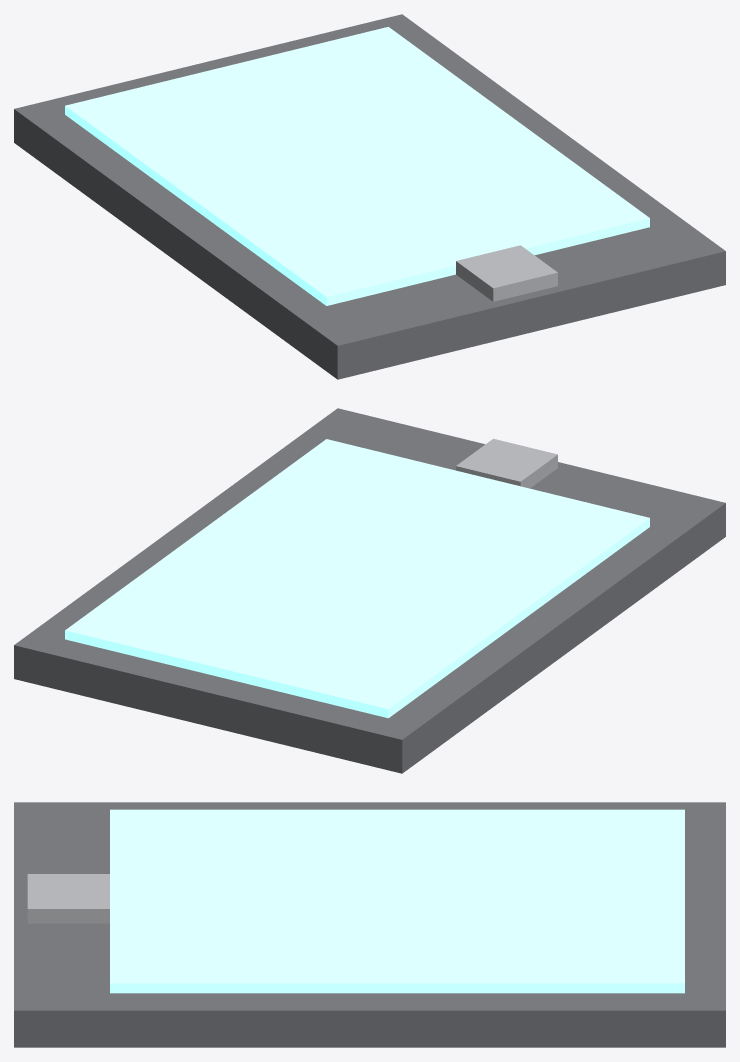
File: SM_Datapad.fbx
3 views of the same model, one above another, from view 1: azimuth 30°, elevation 25°; view 2: azimuth 150°, elevation 25°; view 3: azimuth 270°, elevation 25° (orthographic). The views are drawn at different scales.
Visible parts, largest first — view 1: SM_Datapad; view 2: SM_Datapad; view 3: SM_Datapad.
Boxes of the visible parts, x1,y1,x2,y2 form: SM_Datapad: (14, 14, 725, 379); SM_Datapad: (14, 408, 725, 773); SM_Datapad: (14, 802, 725, 1047).
Size of the model in its own units: 0.18 by 0.021 by 0.26.
